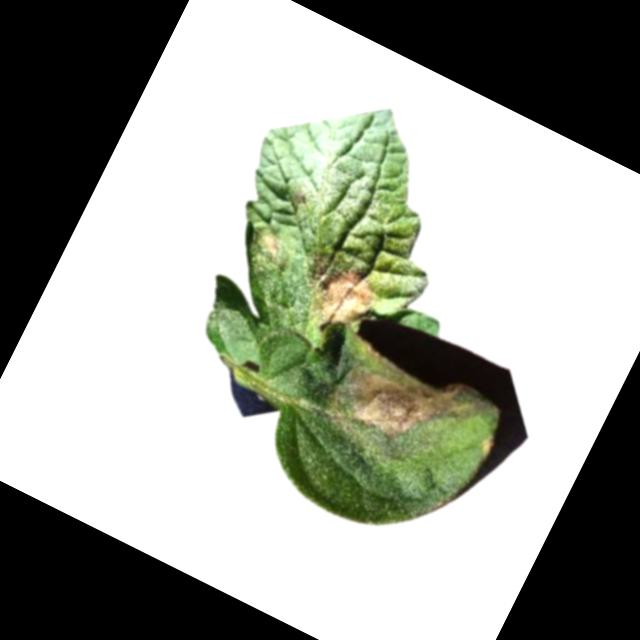Late_blight: (328, 337, 495, 479), (284, 247, 386, 351), (250, 226, 285, 263)
